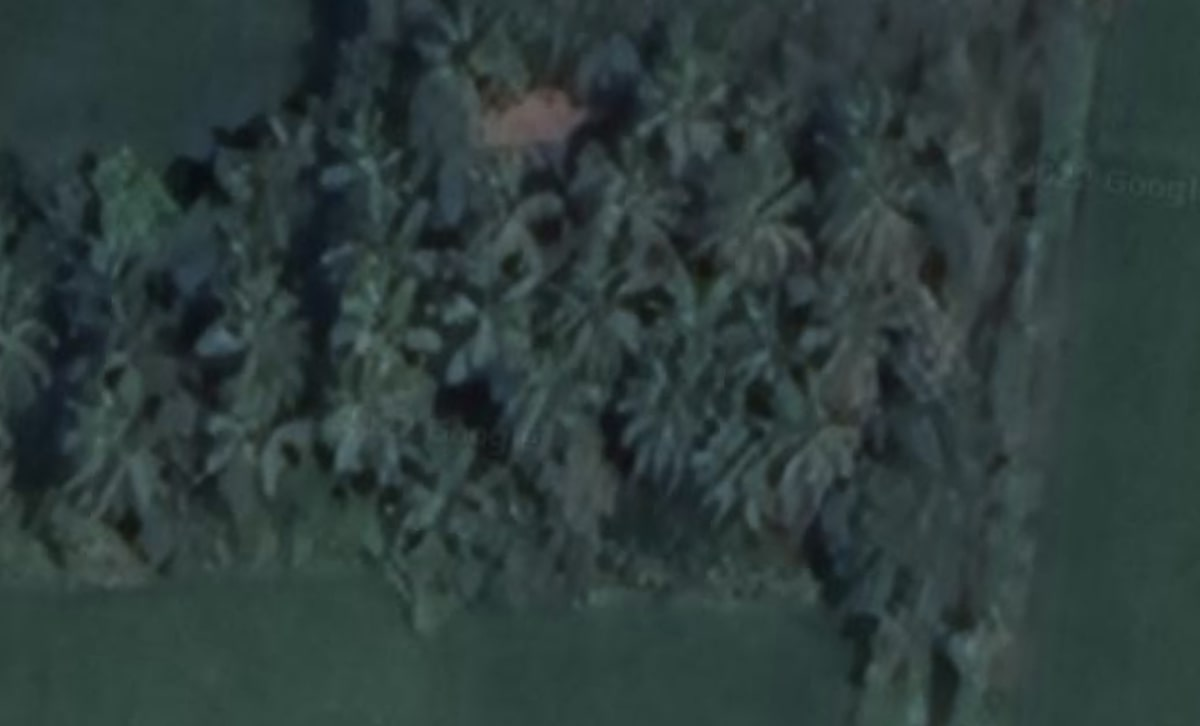coconut: (66, 395, 168, 519), (639, 60, 740, 166), (707, 177, 803, 284), (618, 371, 707, 480), (315, 122, 404, 228), (336, 276, 429, 376)
